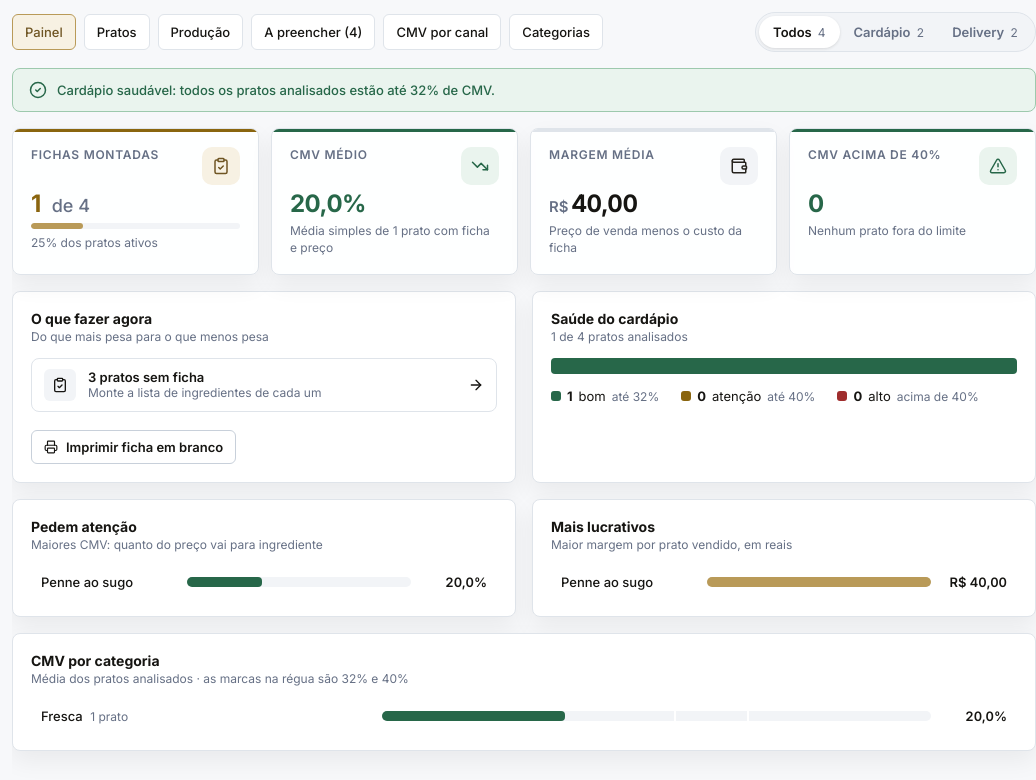
Scenario: cardápio (salão) x delivery › o seletor mostra quantos pratos há em cada um e filtra a lista
Expected: the text "Fichas montadas" is shown, [31,147,159,162]
Click the tab "Pratos".
click(117, 32)  # box [84,14,150,50]
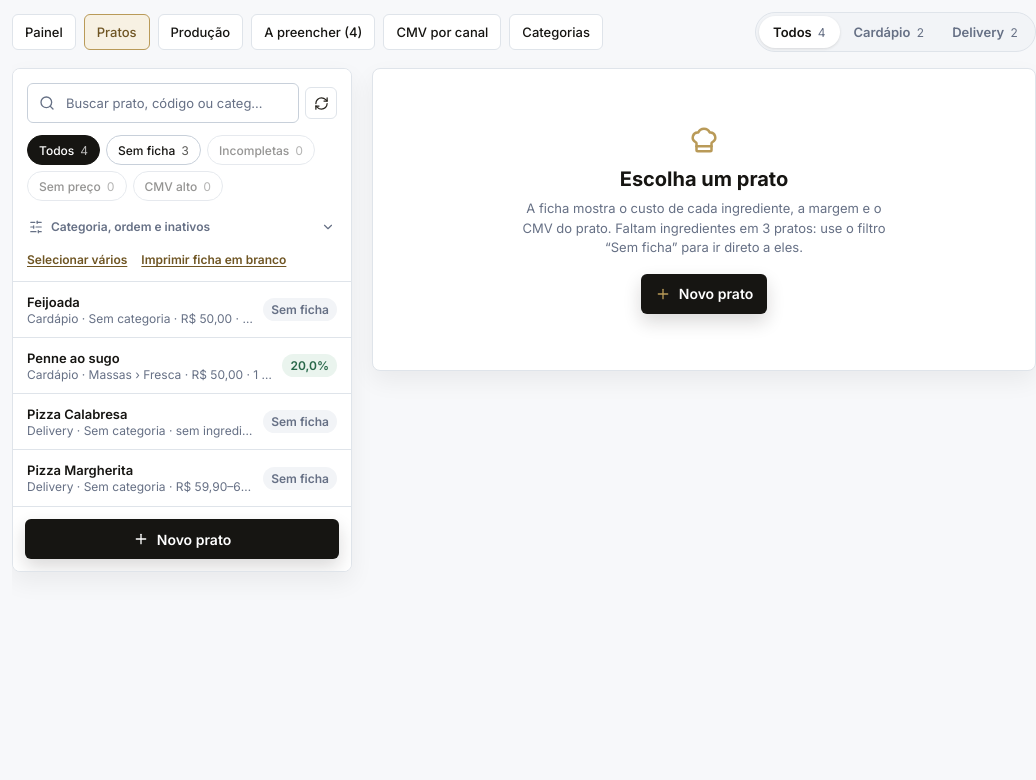
Expected: the radio button labelled "Todos 4" is shown, [759,16,840,48]
Expected: the radio button labelled "Cardápio 2" is shown, [840,16,938,48]
Click the radio button labelled "Delivery 2".
click(985, 32)  # box [938,16,1032,48]
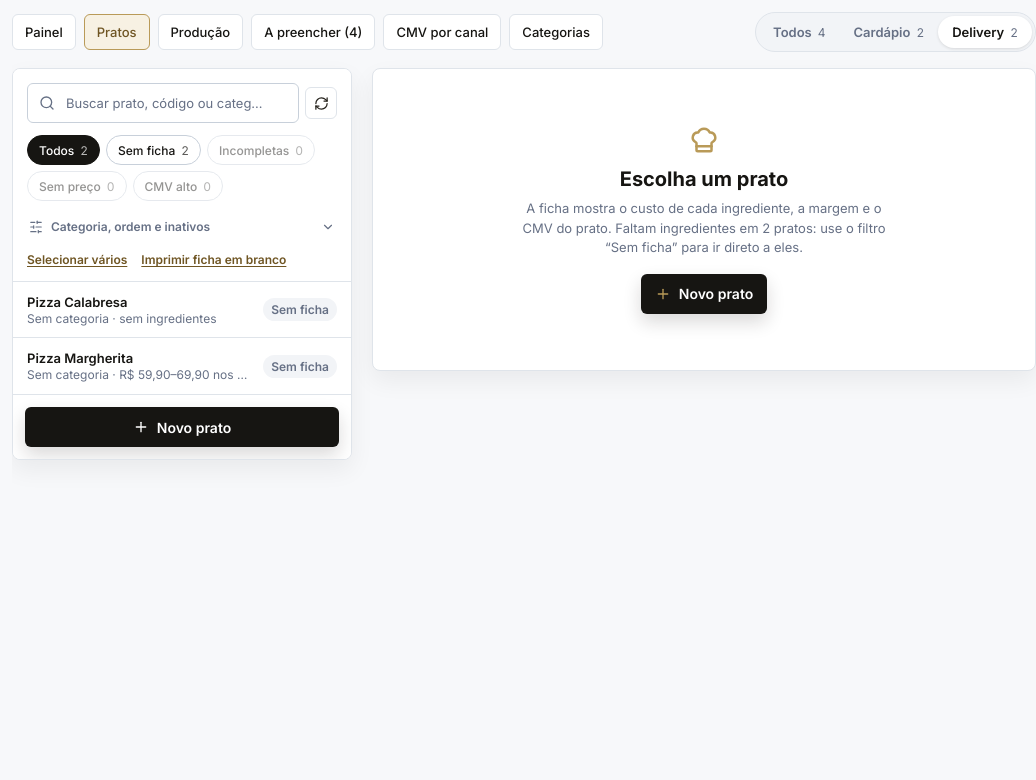
Now the text "Pizza Margherita" is shown, box [27,350,133,366]
Now the list item "Penne ao sugo" is gone
